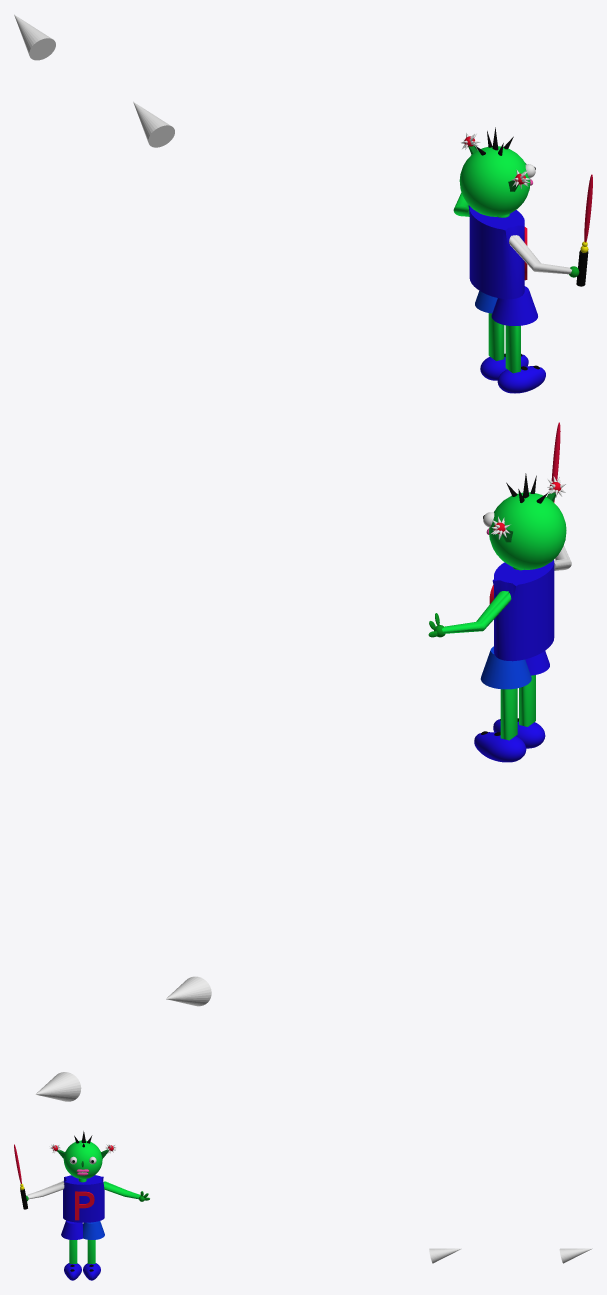
File: prishelec.fbx
3 renders of one model, top to bottom at view 1: azimuth 30°, elevation 25°; view 2: azimuth 150°, elevation 25°; view 3: azimuth 270°, elevation 25°, orthographic. The views are drawn at different scales.
Visible parts, largest first — view 1: Cylinder, Sphere, Cylinder.006, Sphere.008, Cone.004, Cone, Cylinder.001, Cube.013, Cube.014, Sphere.013; view 2: Cylinder, Sphere, Cylinder.005, Sphere.013, Cylinder.004, Cone, Cone.004, Cube.014; view 3: Cylinder, Sphere, Cylinder.005, Cylinder.006, Text, Cone, Cylinder.001, Cone.004, Cylinder.004, Sphere.008, Sphere.013.
Boxes of the visible parts, x1=… form: Cylinder: x1=468, y1=205, x2=524, y2=299; Sphere: x1=459, y1=146, x2=530, y2=216; Cylinder.006: x1=491, y1=286, x2=537, y2=325; Sphere.008: x1=497, y1=366, x2=545, y2=393; Cone.004: x1=14, y1=14, x2=55, y2=60; Cone: x1=133, y1=102, x2=174, y2=147; Cylinder.001: x1=509, y1=235, x2=571, y2=274; Cube.013: x1=505, y1=325, x2=520, y2=373; Cube.014: x1=488, y1=313, x2=504, y2=360; Sphere.013: x1=480, y1=353, x2=528, y2=380; Cylinder: x1=492, y1=560, x2=554, y2=661; Sphere: x1=489, y1=492, x2=566, y2=569; Cylinder.005: x1=480, y1=646, x2=531, y2=689; Sphere.013: x1=474, y1=732, x2=526, y2=762; Cylinder.004: x1=442, y1=591, x2=511, y2=633; Cone: x1=166, y1=976, x2=211, y2=1006; Cone.004: x1=35, y1=1072, x2=81, y2=1101; Cube.014: x1=500, y1=688, x2=517, y2=740; Cylinder: x1=63, y1=1175, x2=104, y2=1222; Sphere: x1=63, y1=1140, x2=102, y2=1178; Cylinder.005: x1=83, y1=1221, x2=104, y2=1239; Cylinder.006: x1=61, y1=1220, x2=82, y2=1239; Text: x1=75, y1=1191, x2=94, y2=1220; Cone: x1=429, y1=1248, x2=461, y2=1263; Cylinder.001: x1=26, y1=1181, x2=64, y2=1199; Cone.004: x1=559, y1=1248, x2=592, y2=1263; Cylinder.004: x1=103, y1=1181, x2=140, y2=1199; Sphere.008: x1=64, y1=1263, x2=81, y2=1280; Sphere.013: x1=83, y1=1263, x2=100, y2=1280.
Bounding box in the file's own units: 98.8 × 345 × 1269.
